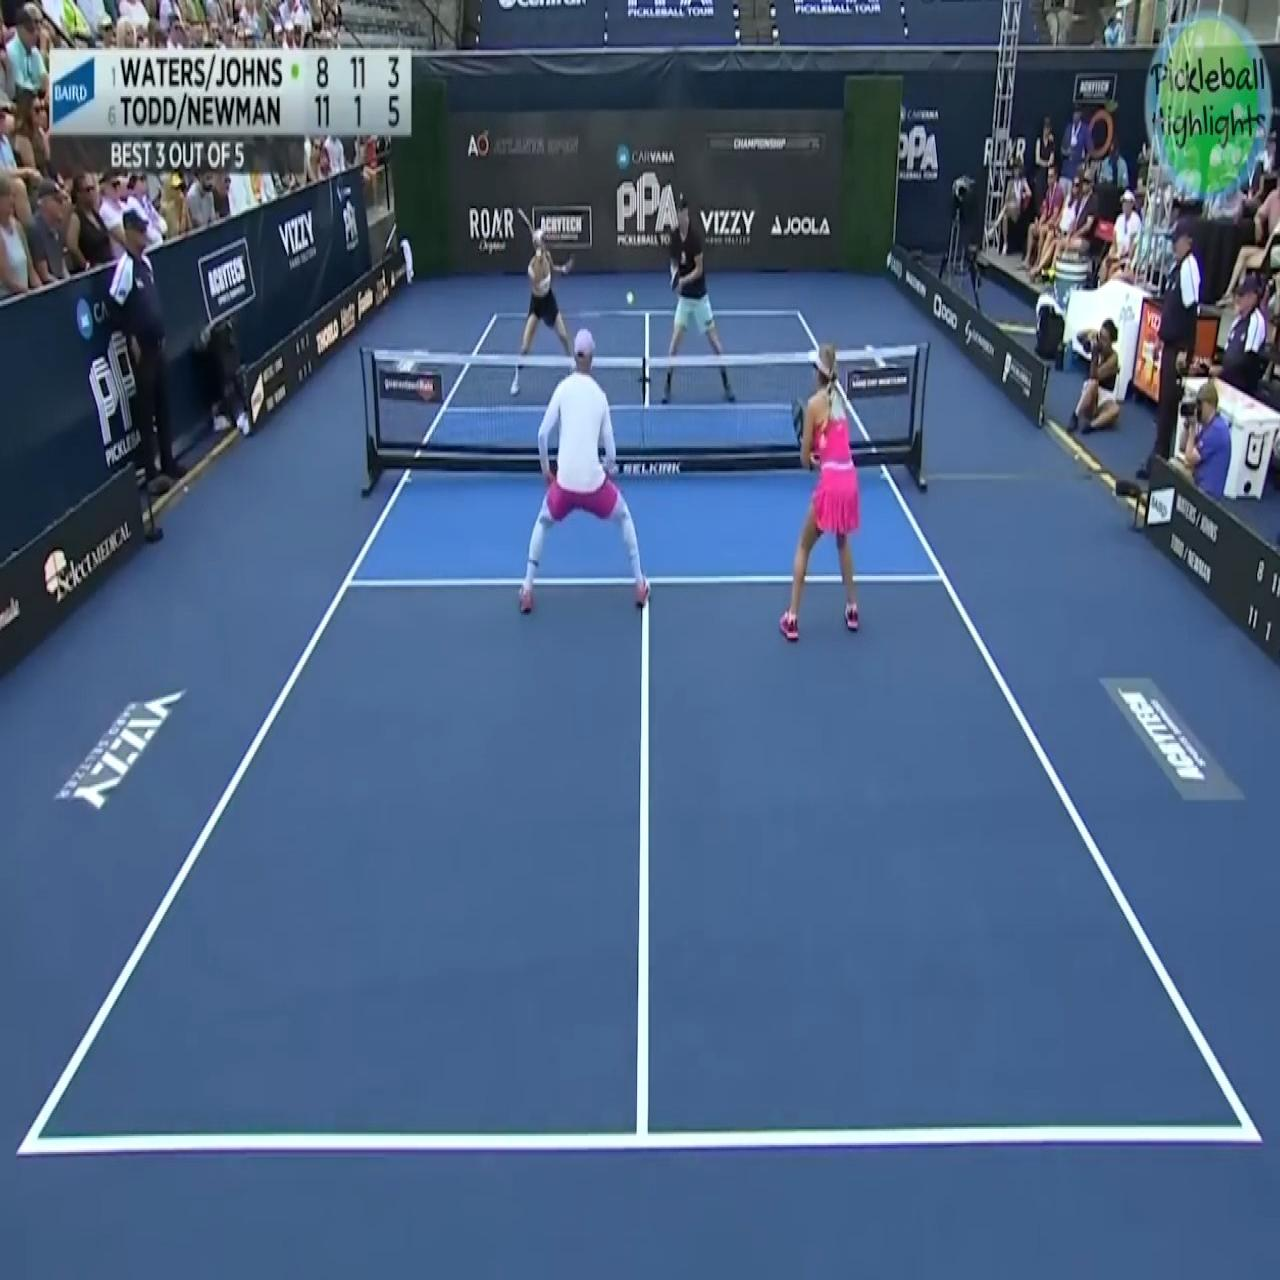Pickleball: (624, 288, 636, 311)
